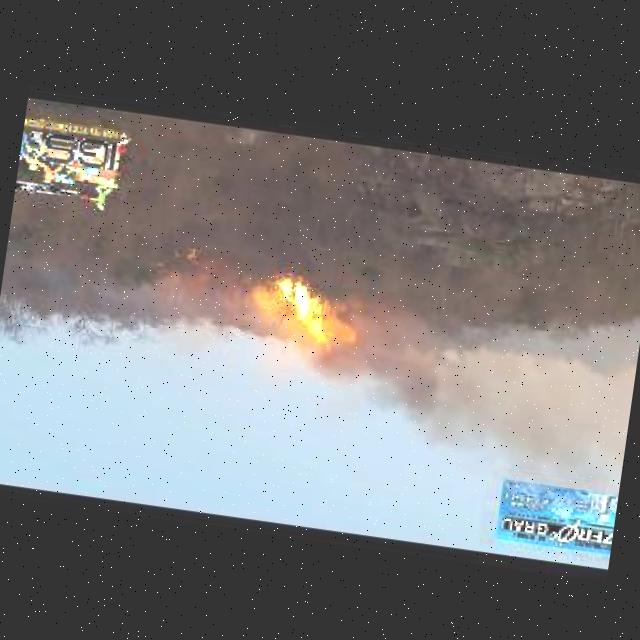fire: (307, 308, 461, 438), (260, 277, 356, 351)
